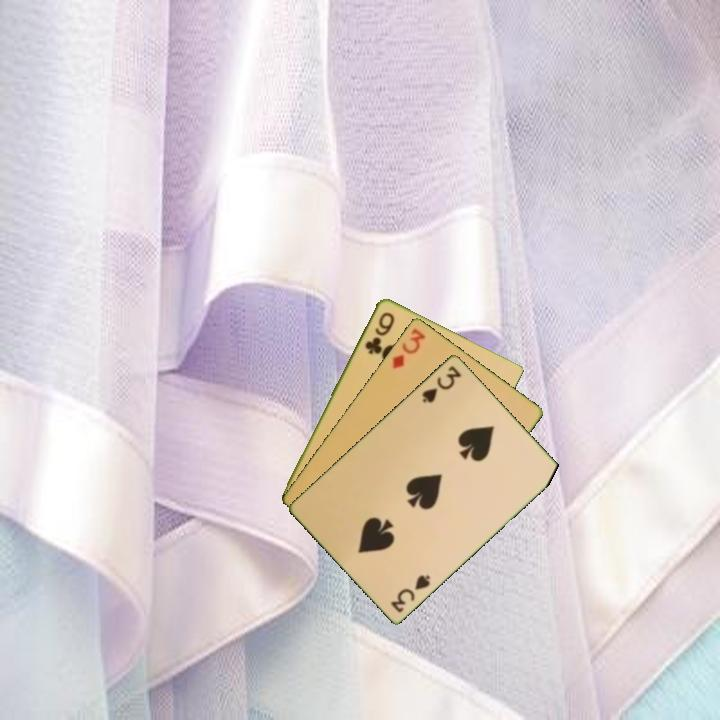3d: (388, 324, 428, 371)
3s: (418, 362, 464, 406), (387, 571, 433, 615)
9c: (361, 308, 397, 357)
